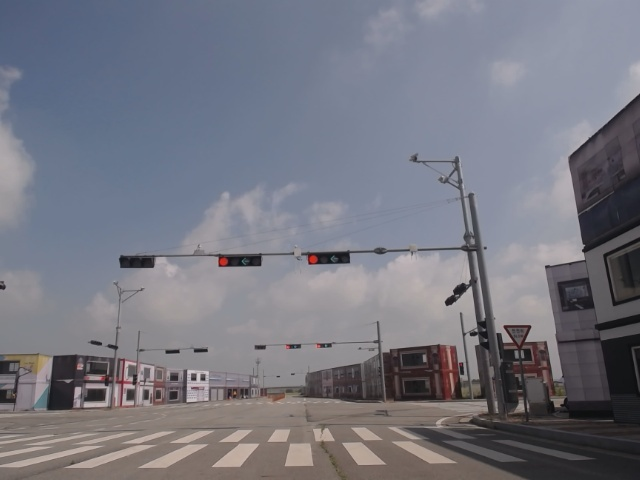left_green_4: (218, 255, 262, 267), (307, 253, 351, 264)
